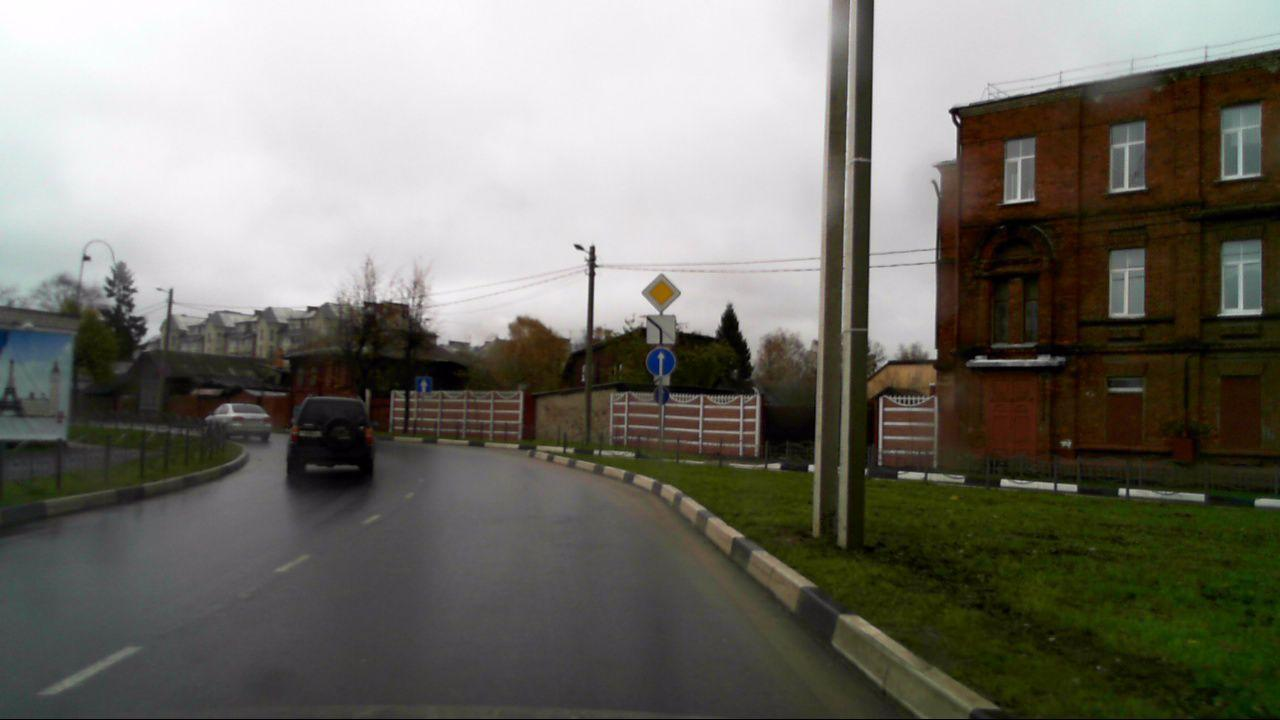2_1: (643, 273, 681, 312)
4_1_1: (646, 347, 674, 376), (653, 387, 670, 405)
5_5: (416, 377, 433, 393)
8_13: (645, 314, 676, 346)
